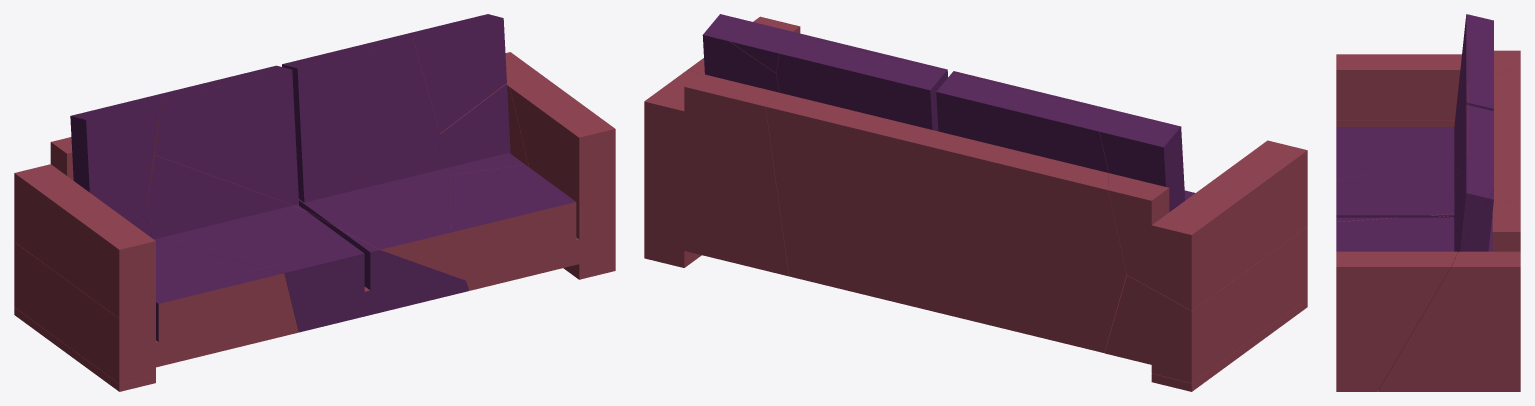
File: CouchShatter.fbx
3 views of the same model, side by side, from view 1: azimuth 30°, elevation 25°; view 2: azimuth 150°, elevation 25°; view 3: azimuth 270°, elevation 25° (orthographic). The views are drawn at different scales.
Parts seen in each view (by area): view 1: Cube_cell.003, Cube_cell.008, Cube_cell.002, Cube_cell.001, Cube_cell.010, Cube_cell.009, Cube_cell.006, Cube_cell, Cube_cell.007, Cube_cell.004, Cube_cell.005; view 2: Cube_cell.004, Cube_cell.007, Cube_cell.010, Cube_cell.001, Cube_cell.006, Cube_cell, Cube_cell.005; view 3: Cube_cell.007, Cube_cell.008, Cube_cell.010, Cube_cell.004, Cube_cell.002, Cube_cell.001, Cube_cell.003, Cube_cell, Cube_cell.006, Cube_cell.009.
Part boxes in pixels (box(x1,y1,x2,y2)): Cube_cell.003: box(296, 39, 465, 279); Cube_cell.008: box(450, 81, 615, 290); Cube_cell.002: box(134, 154, 469, 332); Cube_cell.001: box(14, 216, 298, 383); Cube_cell.010: box(14, 137, 155, 318); Cube_cell.009: box(154, 69, 308, 212); Cube_cell.006: box(70, 101, 161, 223); Cube_cell: box(413, 14, 506, 133); Cube_cell.007: box(438, 14, 549, 175); Cube_cell.004: box(129, 31, 418, 146); Cube_cell.005: box(14, 307, 155, 391); Cube_cell.004: box(765, 39, 1126, 352); Cube_cell.007: box(644, 32, 788, 276); Cube_cell.010: box(1108, 140, 1307, 310); Cube_cell.001: box(1104, 190, 1307, 383); Cube_cell.006: box(1098, 106, 1185, 211); Cube_cell: box(705, 14, 819, 73); Cube_cell.005: box(1151, 299, 1307, 391); Cube_cell.007: box(1378, 189, 1520, 391); Cube_cell.008: box(1336, 251, 1457, 391); Cube_cell.010: box(1336, 50, 1520, 120); Cube_cell.004: box(1468, 45, 1520, 251); Cube_cell.002: box(1336, 84, 1468, 221); Cube_cell.001: box(1336, 120, 1456, 180); Cube_cell.003: box(1336, 104, 1468, 251); Cube_cell: box(1457, 154, 1493, 247); Cube_cell.006: box(1455, 14, 1493, 128); Cube_cell.009: box(1433, 46, 1468, 217).
Bounding box in the file's own units: 545 × 218 × 200.
